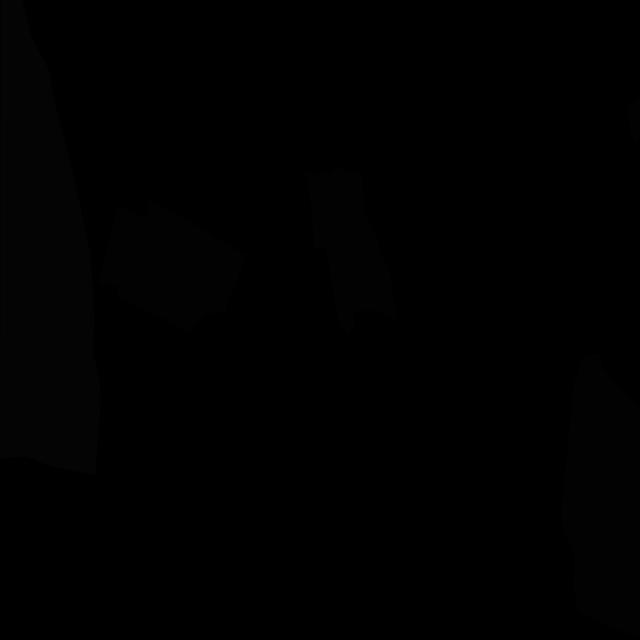cardboard: (561, 353, 640, 640), (98, 199, 246, 333), (307, 165, 396, 343), (628, 95, 640, 148)
